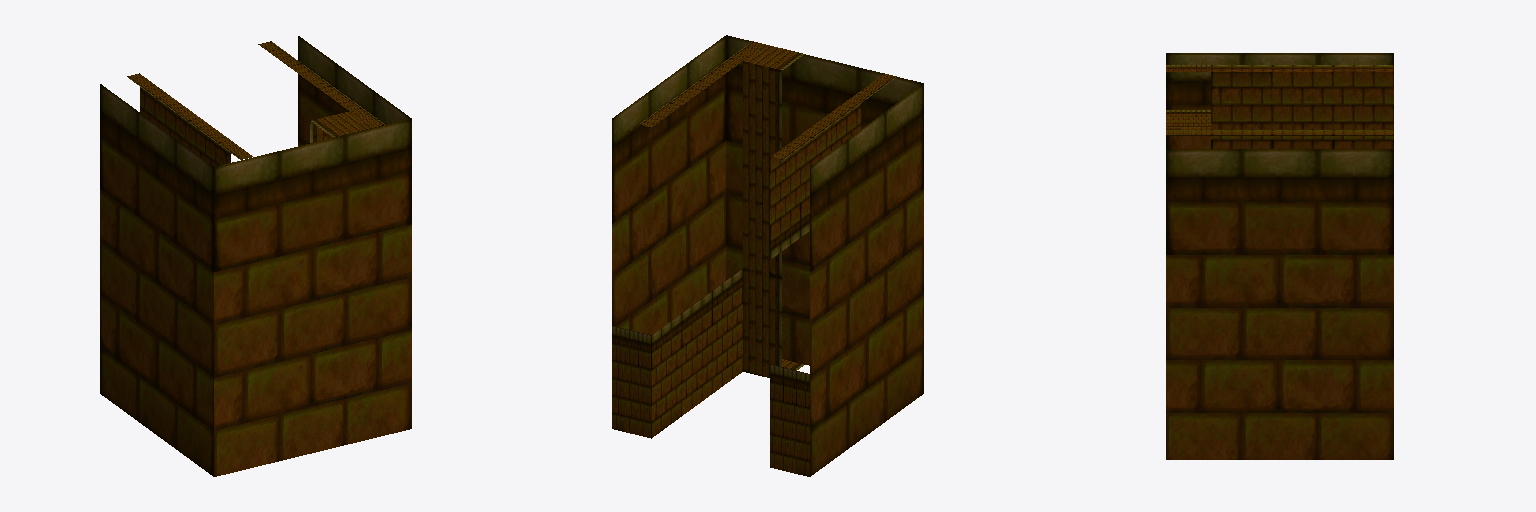
3 views of the same model, side by side, from view 1: azimuth 30°, elevation 25°; view 2: azimuth 150°, elevation 25°; view 3: azimuth 270°, elevation 25° (orthographic).
Visible parts, largest first — view 1: Cube.001_Cube-mesh; view 2: Cube.001_Cube-mesh; view 3: Cube.001_Cube-mesh.
Boxes of the visible parts, <box> form: Cube.001_Cube-mesh: <box>100,36,411,476</box>; Cube.001_Cube-mesh: <box>612,35,923,476</box>; Cube.001_Cube-mesh: <box>1166,53,1393,459</box>.
Size of the model in its own units: 2 by 3 by 2.
Materials: 2 (1 with a texture image).